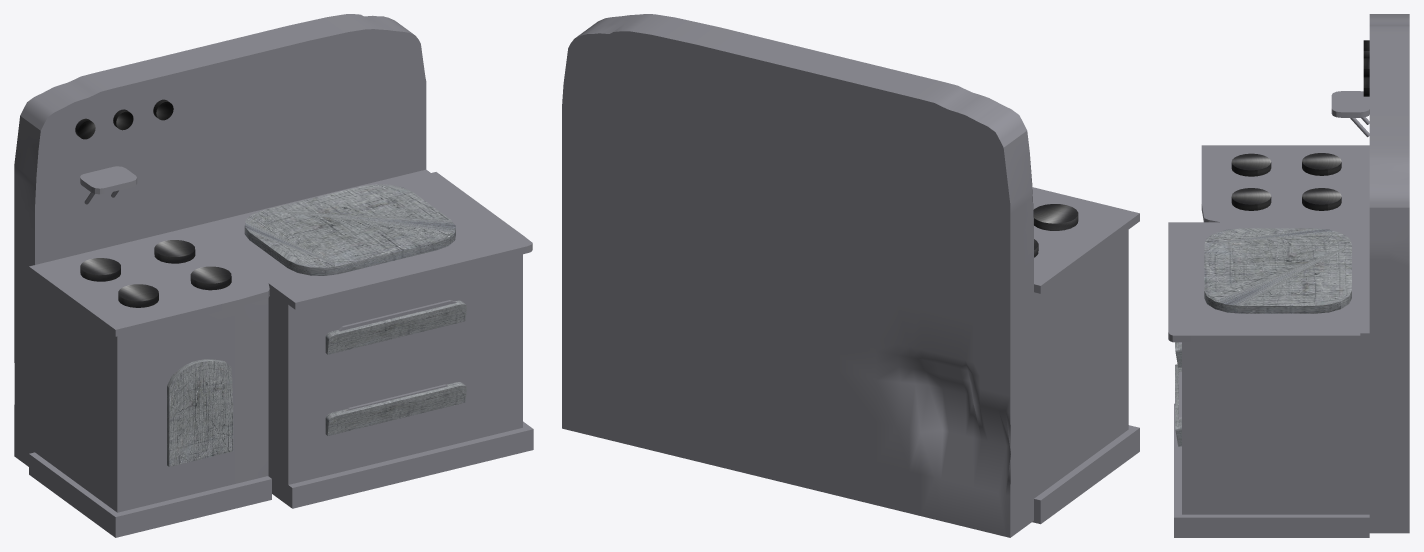
File: estufa.obj
3 renders of one model, left to right at view 1: azimuth 30°, elevation 25°; view 2: azimuth 150°, elevation 25°; view 3: azimuth 270°, elevation 25°, orthographic. The views are drawn at different scales.
Parts seen in each view (by area): view 1: polySurface11; view 2: polySurface11; view 3: polySurface11.
Boxes of the visible parts, left/top/right/bottom form: polySurface11: left=14, top=14, right=533, bottom=537; polySurface11: left=562, top=14, right=1139, bottom=537; polySurface11: left=1168, top=14, right=1409, bottom=537.
Size of the model in its own units: 11.13 by 9.63 by 5.95.
Materials: 15 (15 with a texture image).
